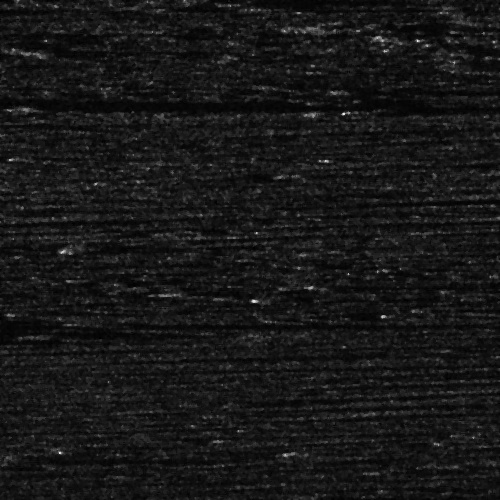object: (145, 289, 208, 294)
shadow: (0, 94, 378, 109), (177, 289, 258, 294)
